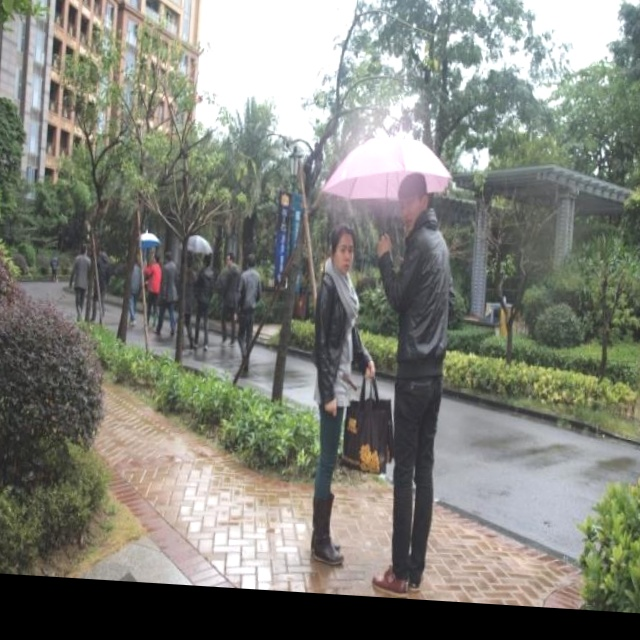Sin_Casco_Mascarrilla: (397, 172, 427, 225), (329, 223, 356, 271)
Sin_Chaleco: (396, 222, 452, 366), (311, 271, 363, 384)
